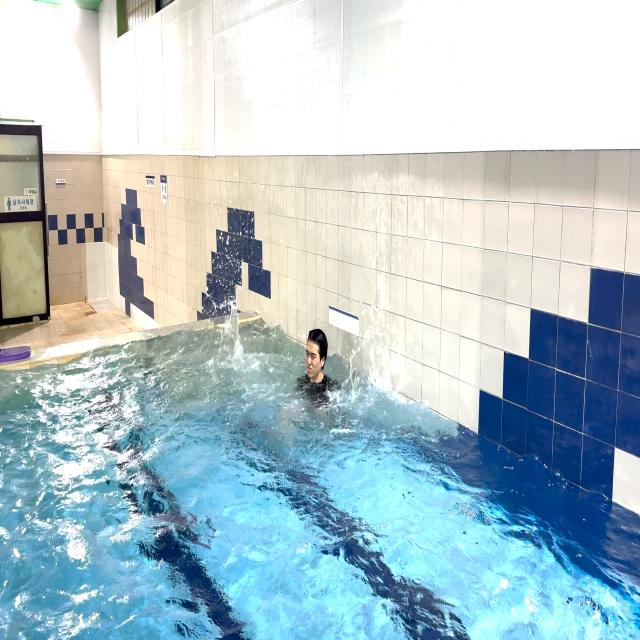Swimming: (289, 298, 396, 443)
